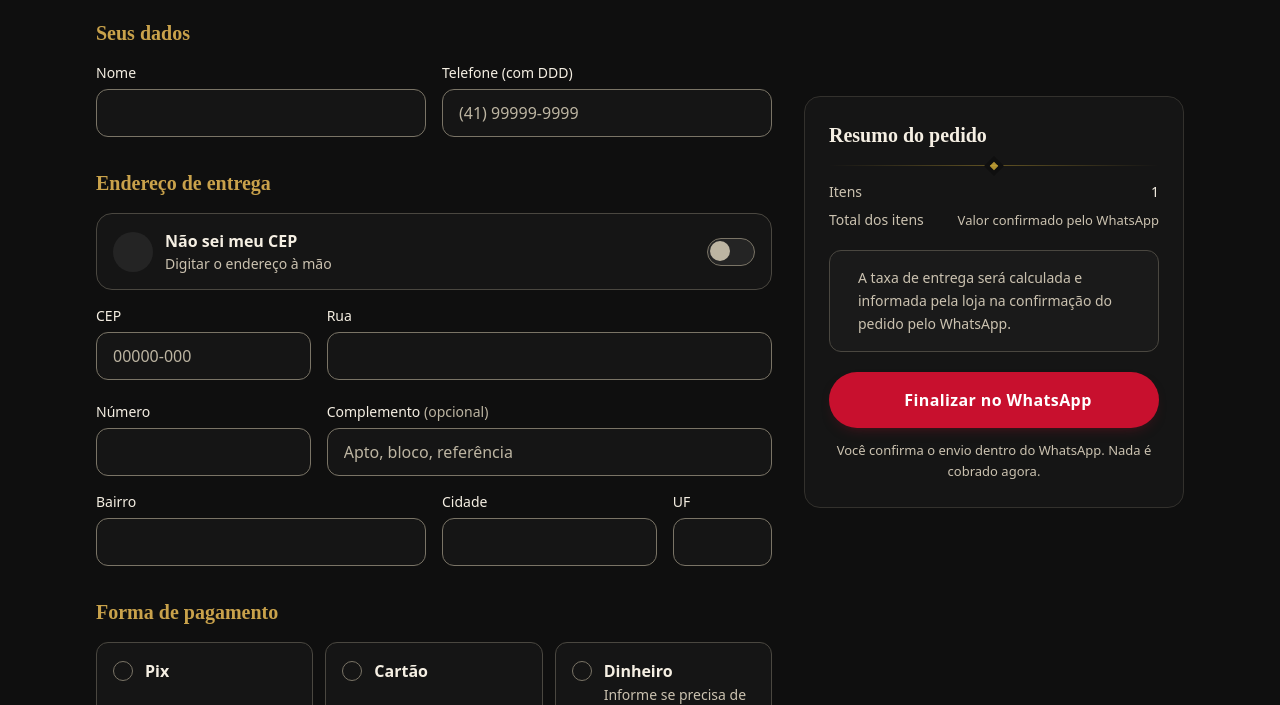
Checkout: endereço manual ("Não sei meu CEP") › ligar o modo manual esconde o CEP, mostra a dica, limpa o CEP e leva o foco à Rua
(page scrolled)
In the field with id "field-cep": (203, 356) [96, 332, 311, 380], type "82015290"
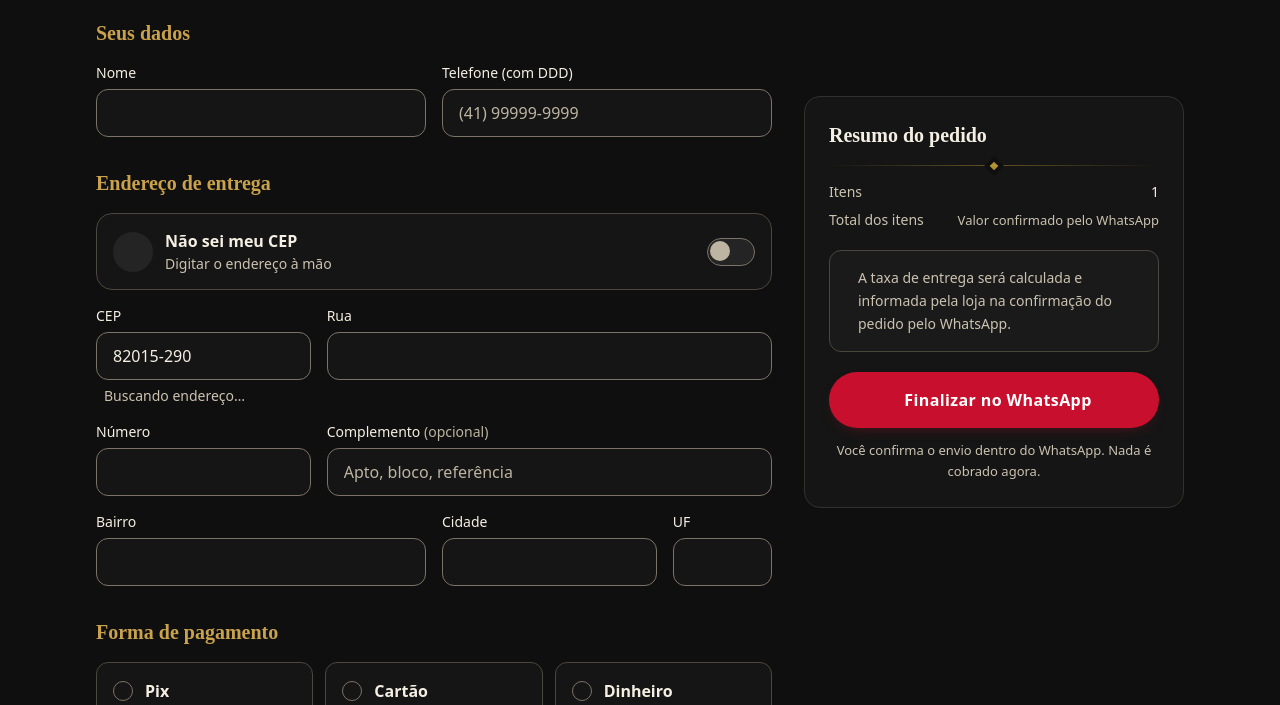
Click the switch with id "field-manualAddress": (133, 252) [96, 213, 772, 290]
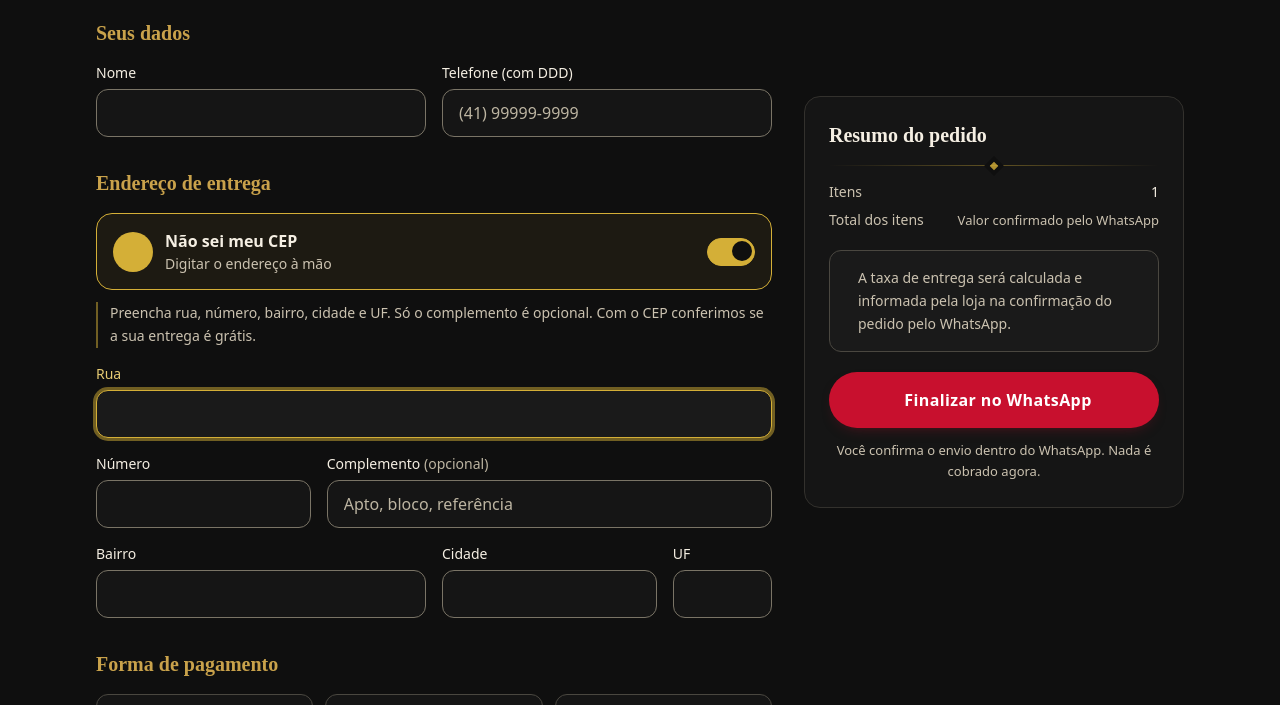
Expected: the label with id "field-cep" is gone
